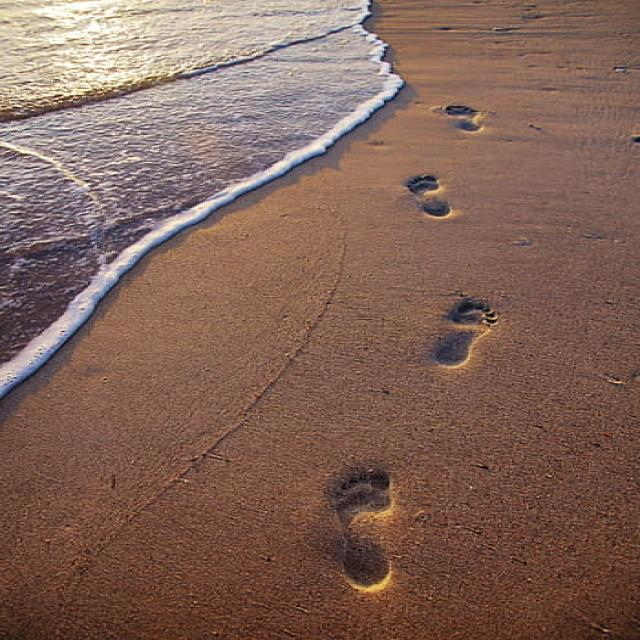human_footprint: (270, 45, 532, 607)
